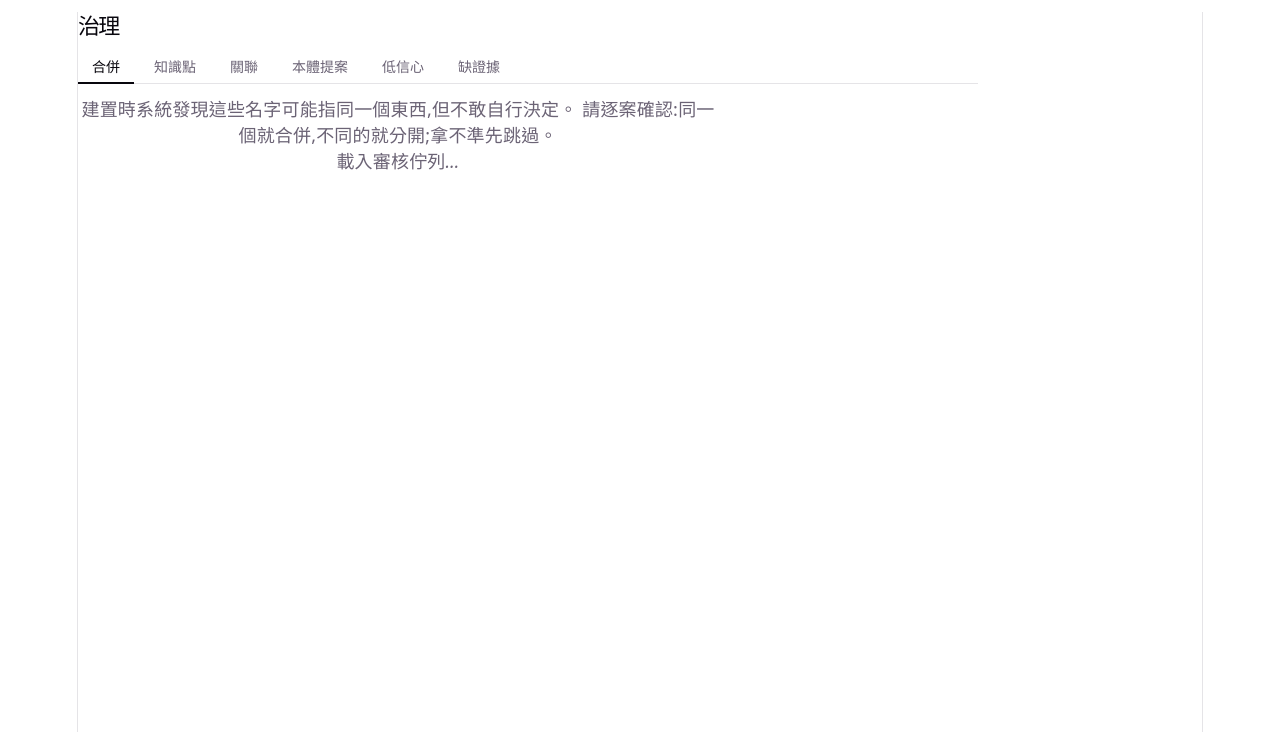
Test: ReviewQueue › lists needs_review entities on the 知識點 tab and associates tab↔panel for a11y (GOV2-fe)
The image size is (1280, 732).
Step 1. Click the tab "知識點" → (175, 67), box [140,50,210,84]
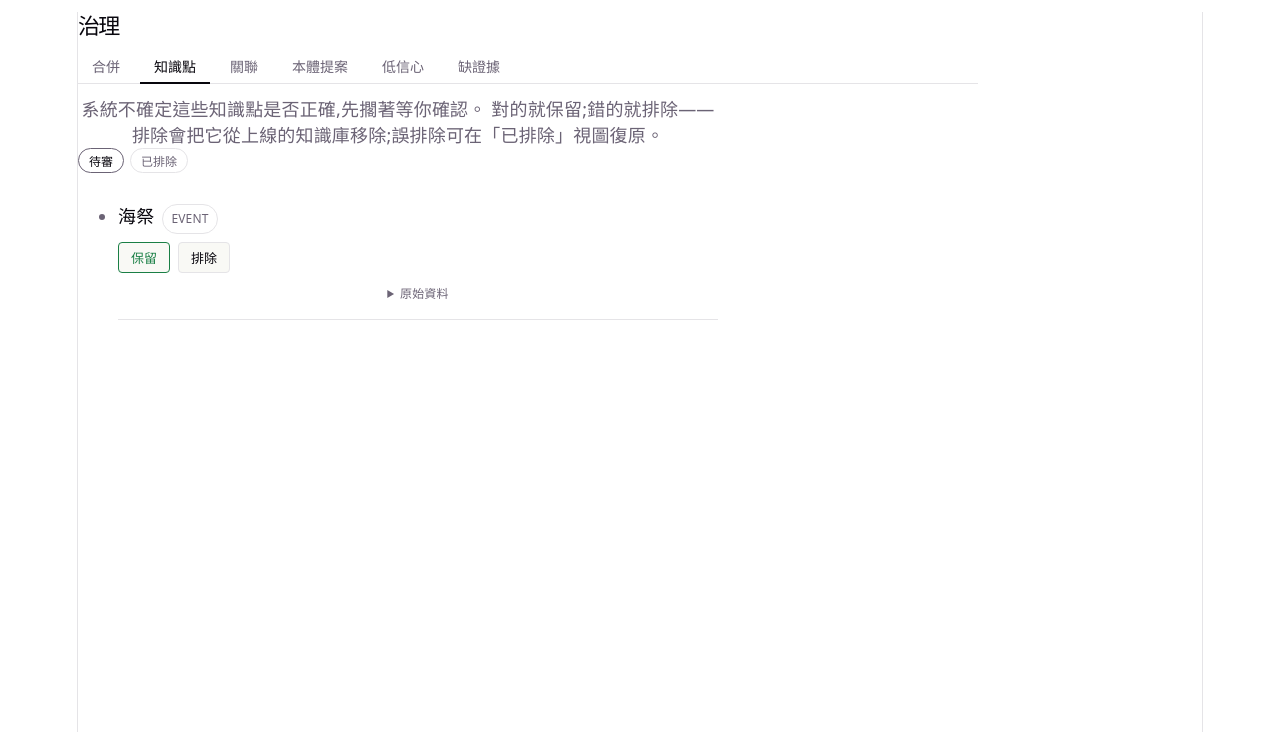
Expected: the text "海祭" is shown, [118,203,154,229]
